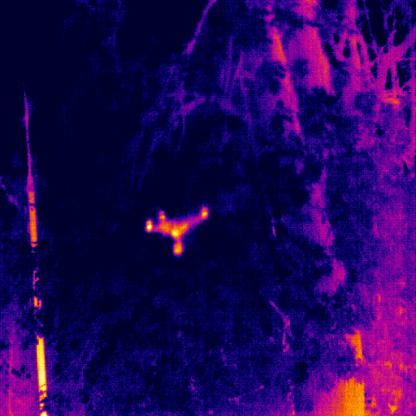drone: (144, 204, 209, 255)
